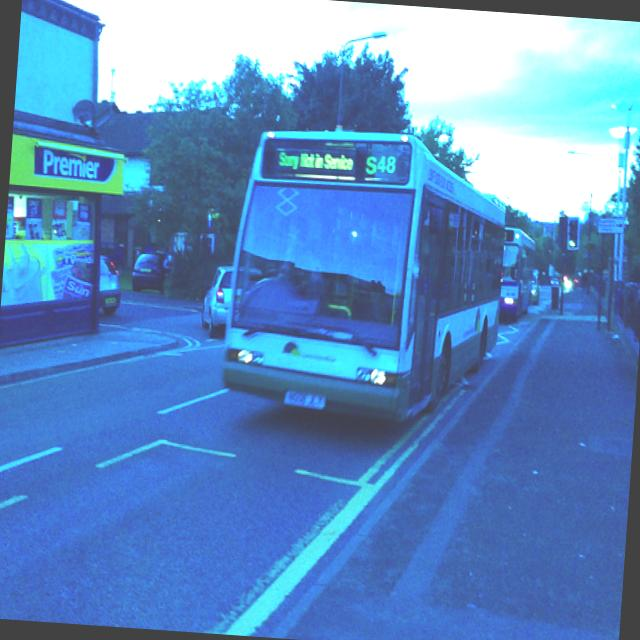Vehicle: (219, 118, 512, 430), (499, 222, 539, 322), (200, 264, 232, 338), (130, 248, 174, 294), (96, 256, 124, 317), (528, 274, 540, 305), (550, 276, 560, 284)
